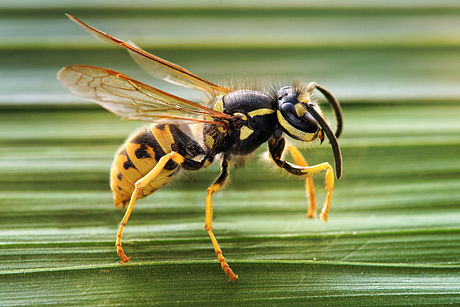chax: (55, 6, 366, 288)
